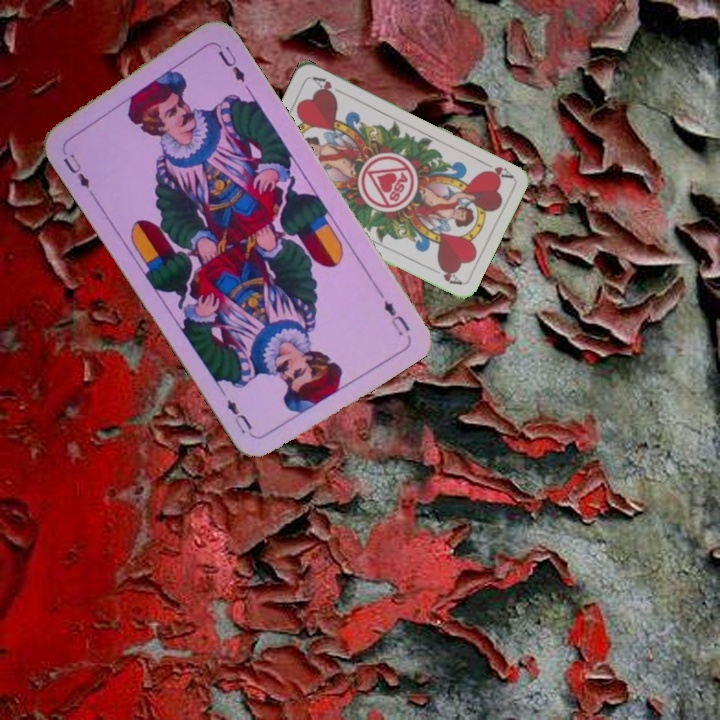EU: (59, 149, 96, 197), (379, 295, 412, 339)
HA: (477, 156, 515, 181)
